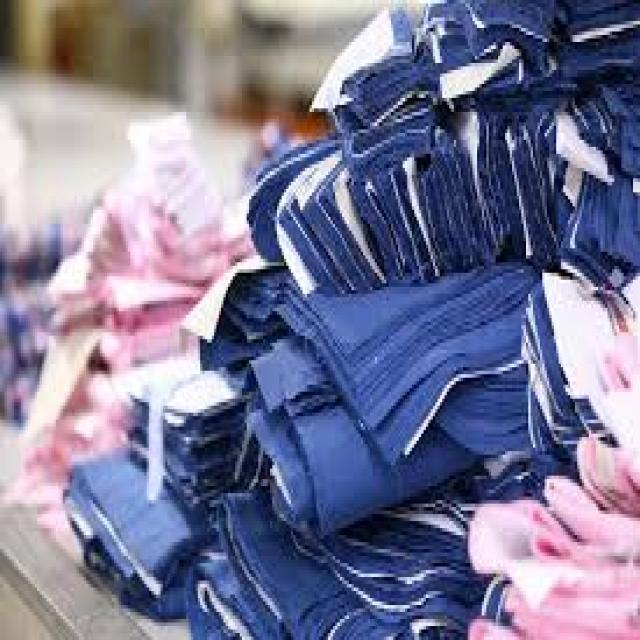Clothes -Biodegradable-: (63, 0, 640, 640), (9, 99, 255, 533)
